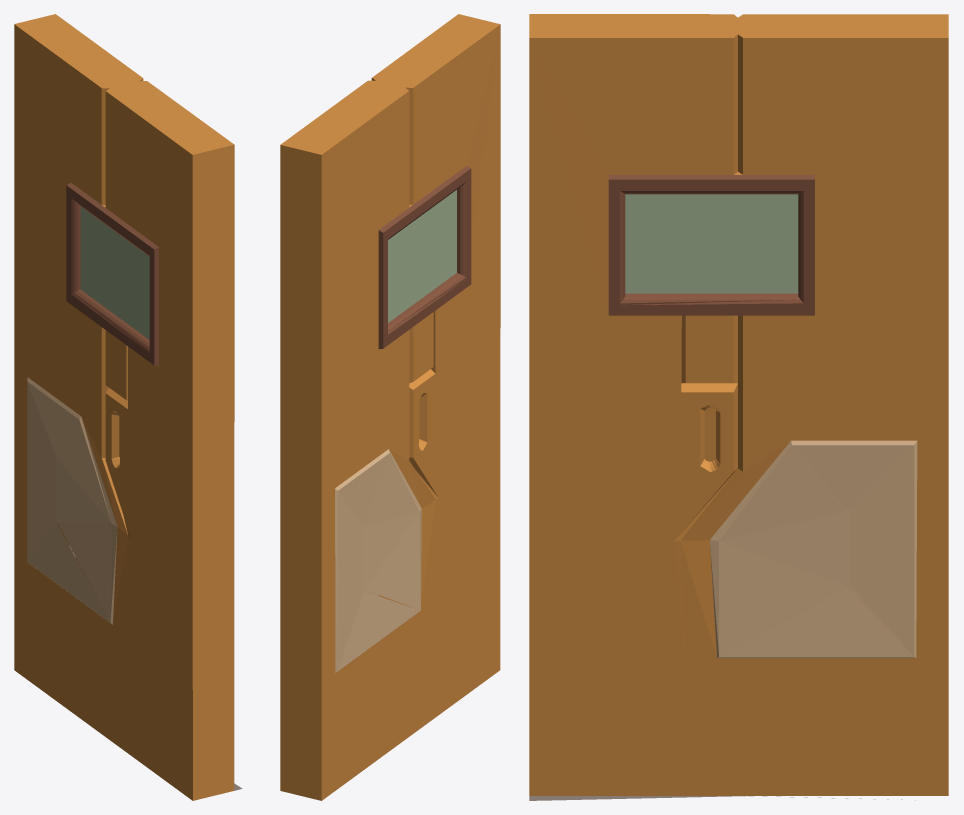
The model's file is Puerta 2.fbx.
3 views of the same model, side by side, from view 1: azimuth 30°, elevation 25°; view 2: azimuth 150°, elevation 25°; view 3: azimuth 270°, elevation 25° (orthographic). The views are drawn at different scales.
Parts seen in each view (by area): view 1: Puerta; view 2: Puerta; view 3: Puerta.
Boxes of the visible parts, x1,y1,x2,y2 form: Puerta: [14, 14, 242, 800]; Puerta: [280, 14, 500, 800]; Puerta: [529, 14, 948, 800].
Size of the model in its own units: 17.44 by 198 by 99.27.
